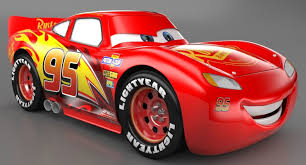mcqueen: (7, 8, 299, 159)
